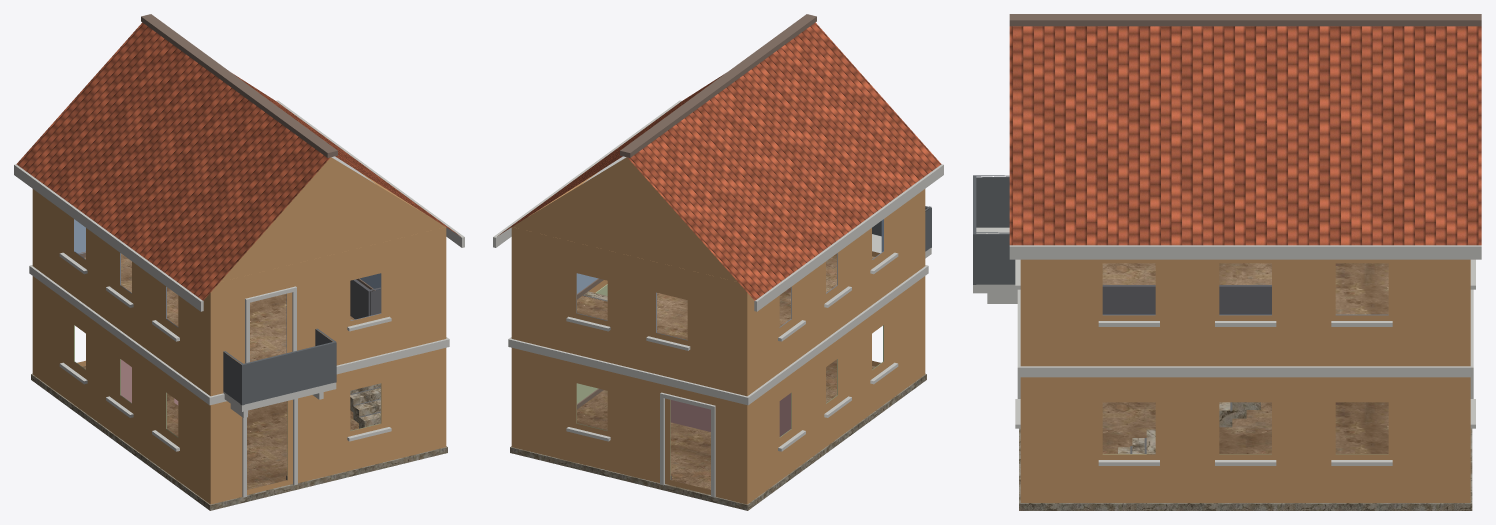
The model's file is cove-house-orange.reveal-v1.lod0.glb.
3 views of the same model, side by side, from view 1: azimuth 30°, elevation 25°; view 2: azimuth 150°, elevation 25°; view 3: azimuth 270°, elevation 25° (orthographic). The views are drawn at different scales.
Parts seen in each view (by area): view 1: cove-house-orange; view 2: cove-house-orange; view 3: cove-house-orange.
Boxes of the visible parts, bbox=[...] form: cove-house-orange: bbox=[14, 14, 464, 510]; cove-house-orange: bbox=[493, 14, 943, 510]; cove-house-orange: bbox=[973, 14, 1481, 510].
Size of the model in its own units: 7.28 by 8.78 by 9.63.
4 materials, 3 textured.
